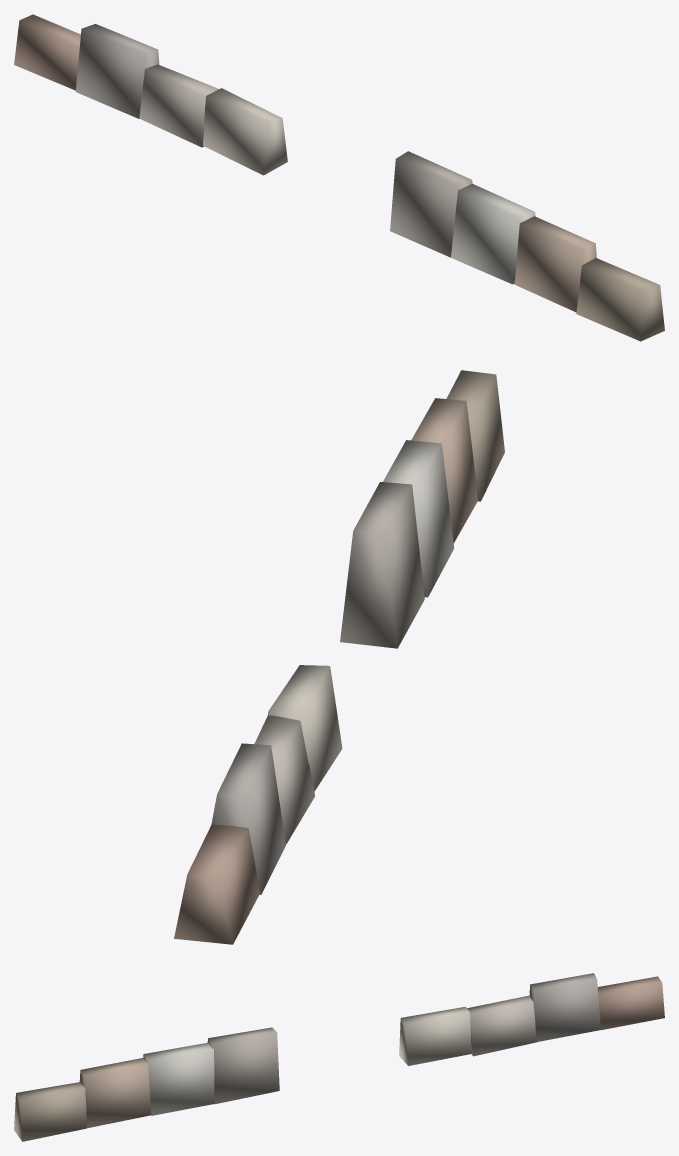
The model's file is farm_26_41_far.glb.
3 views of the same model, one above another, from view 1: azimuth 30°, elevation 25°; view 2: azimuth 150°, elevation 25°; view 3: azimuth 270°, elevation 25° (orthographic). The views are drawn at different scales.
Visible parts, largest first — view 1: geometry_0; view 2: geometry_0; view 3: geometry_0.
Part boxes in pixels (left/top/right/bottom): geometry_0: left=14, top=14, right=664, bottom=341; geometry_0: left=174, top=370, right=504, bottom=944; geometry_0: left=14, top=973, right=664, bottom=1141.
Size of the model in its own units: 5.54 by 2.01 by 15.01.
